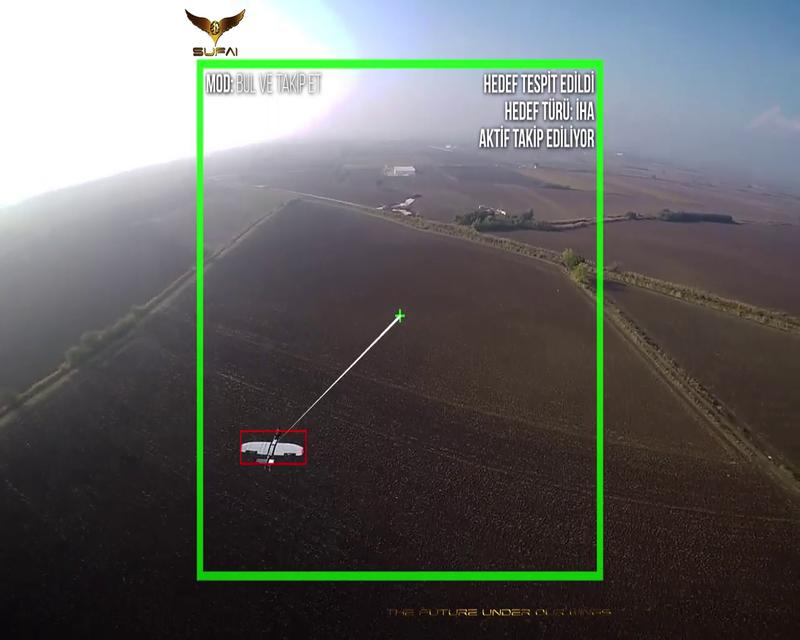UAV: (241, 429, 307, 470)
